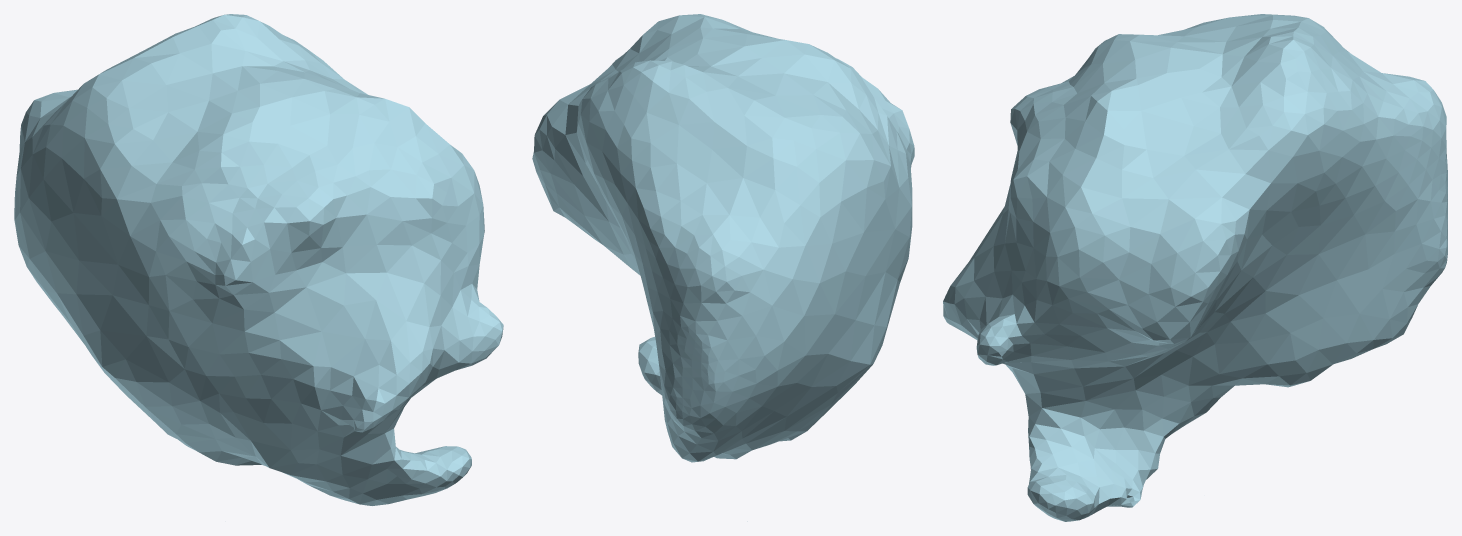
File: livertumor.obj
3 views of the same model, side by side, from view 1: azimuth 30°, elevation 25°; view 2: azimuth 150°, elevation 25°; view 3: azimuth 270°, elevation 25° (orthographic). The views are drawn at different scales.
Parts seen in each view (by area): view 1: grp1; view 2: grp1; view 3: grp1.
Boxes of the visible parts, x1,y1,x2,y2 form: grp1: (14, 14, 503, 505); grp1: (532, 14, 914, 521); grp1: (943, 14, 1447, 521).
Bounding box in the file's own units: 48.96 × 62.63 × 60.
